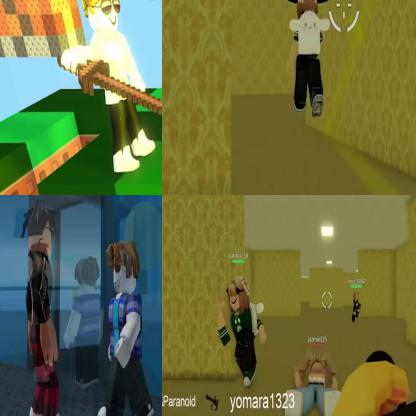Roblox-Avatar: (62, 1, 157, 174), (22, 200, 70, 416), (98, 241, 156, 416), (218, 275, 267, 388), (64, 256, 105, 390), (287, 1, 332, 119), (285, 351, 343, 416), (353, 291, 362, 324)
